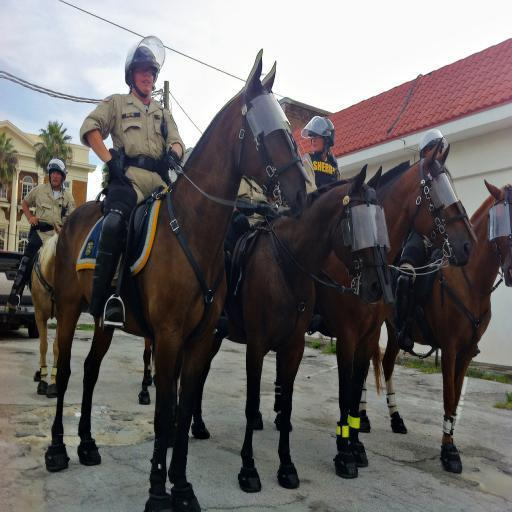horse: (25, 47, 512, 512)
